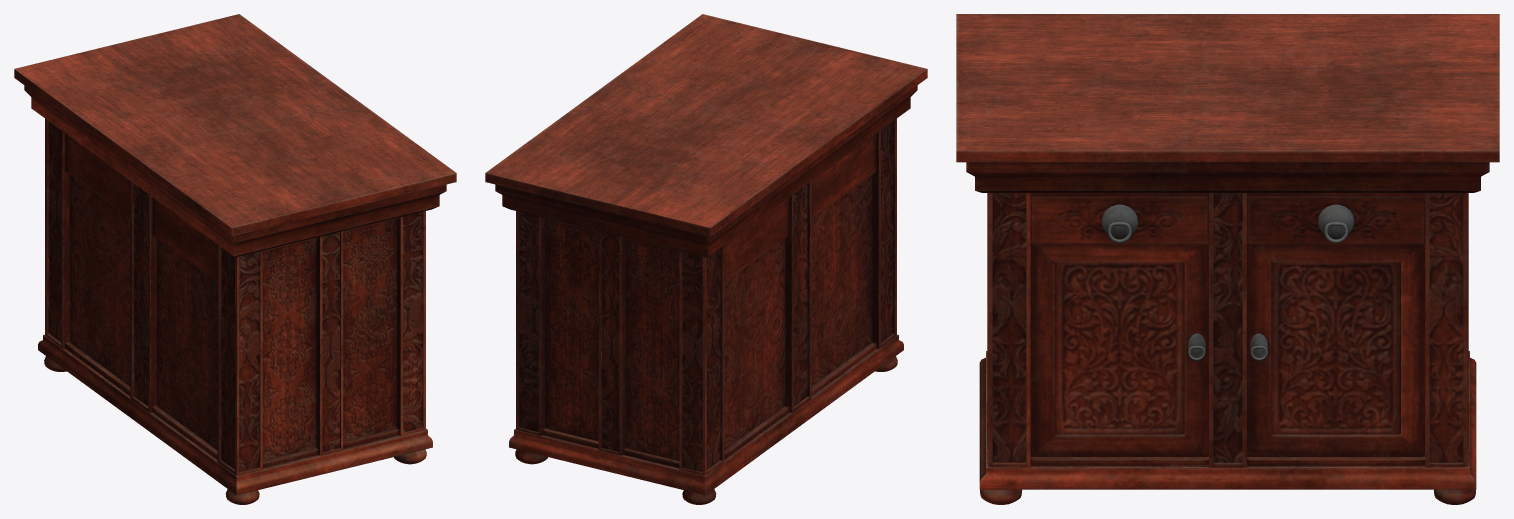
Rendered from drawer.glb.
3 views of the same model, side by side, from view 1: azimuth 30°, elevation 25°; view 2: azimuth 150°, elevation 25°; view 3: azimuth 270°, elevation 25° (orthographic). The views are drawn at different scales.
Parts seen in each view (by area): view 1: Medieval_Drawer; view 2: Medieval_Drawer; view 3: Medieval_Drawer.
Part boxes in pixels (bbox=[...]): Medieval_Drawer: bbox=[14, 14, 456, 504]; Medieval_Drawer: bbox=[485, 14, 927, 504]; Medieval_Drawer: bbox=[956, 14, 1499, 504].
Size of the model in its own units: 4.17 by 5.16 by 6.97.
Materials: 1 (1 with a texture image).
